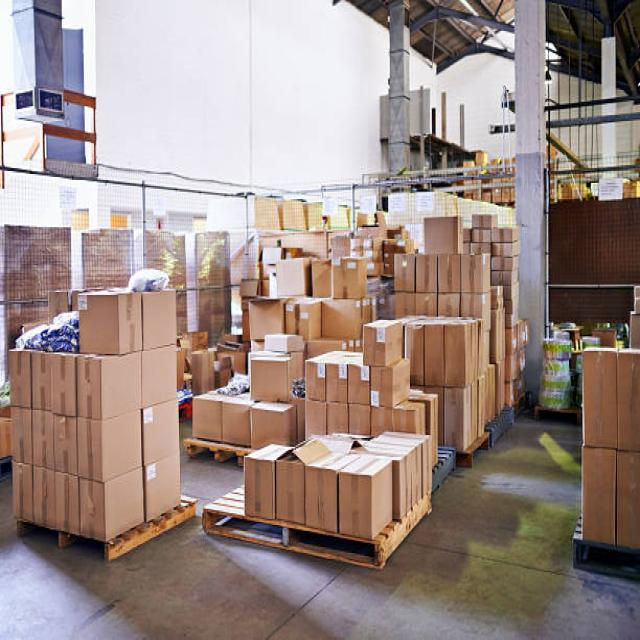Wooden-Pallets: (201, 487, 433, 572), (107, 497, 198, 566)
